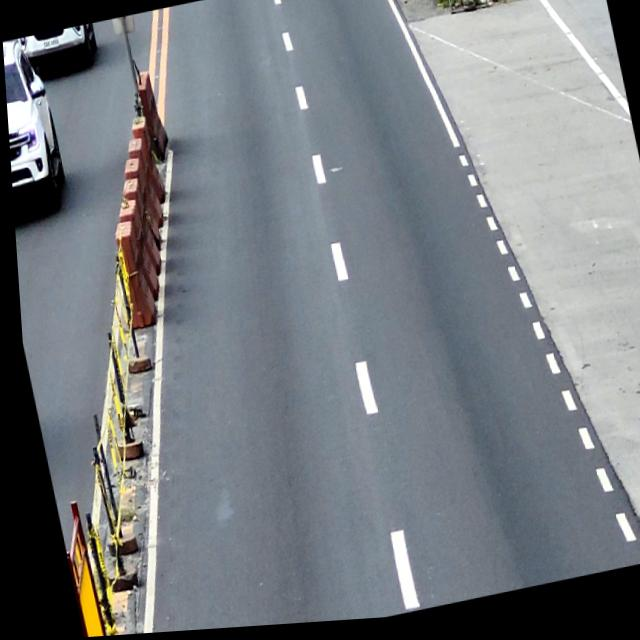Car: (2, 34, 71, 220), (14, 23, 102, 82)
License-Plate: (42, 36, 60, 51)
